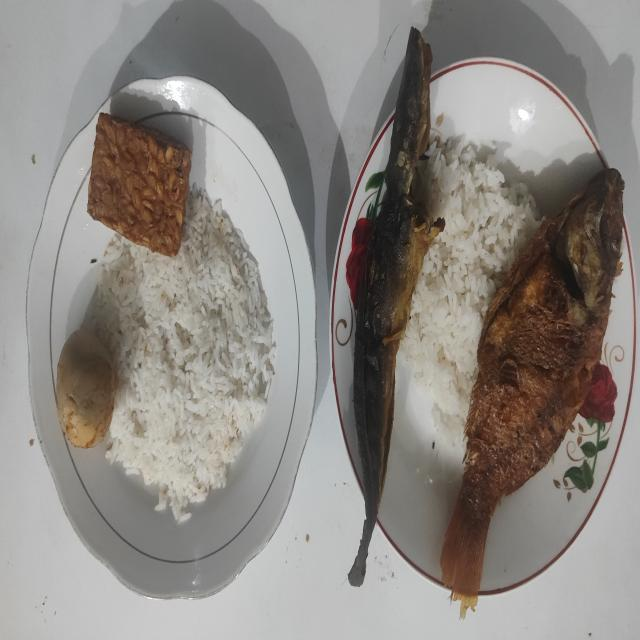ikan_mujair: (440, 168, 624, 618)
nasi_putih: (94, 185, 275, 522), (400, 136, 540, 448)
tempe_goreng: (88, 113, 192, 256)
